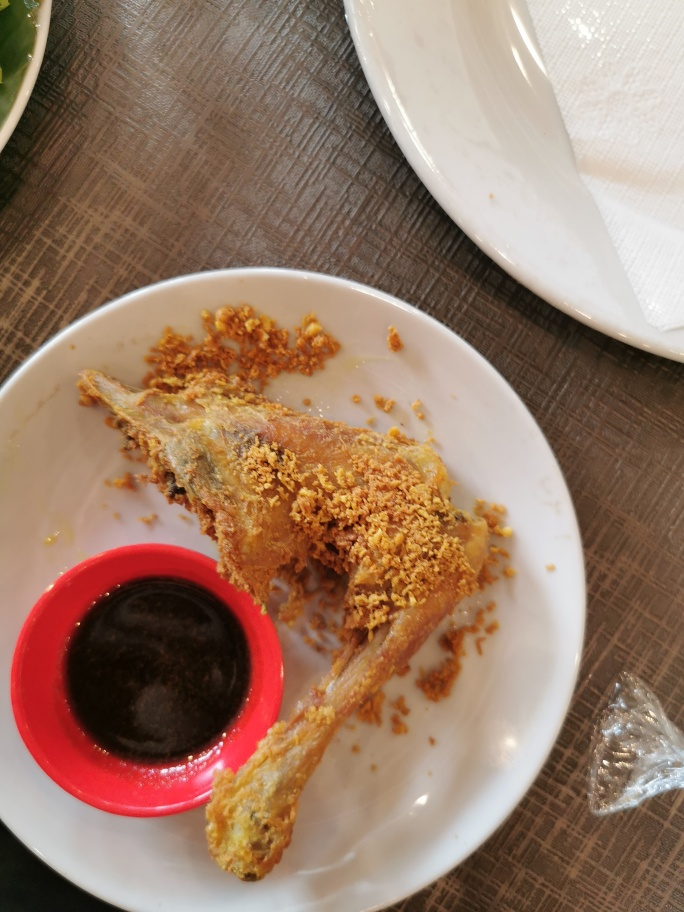ayam goreng: (71, 360, 521, 884)
kecap: (17, 538, 283, 819)
